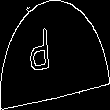P_S: (43, 27, 67, 83)
